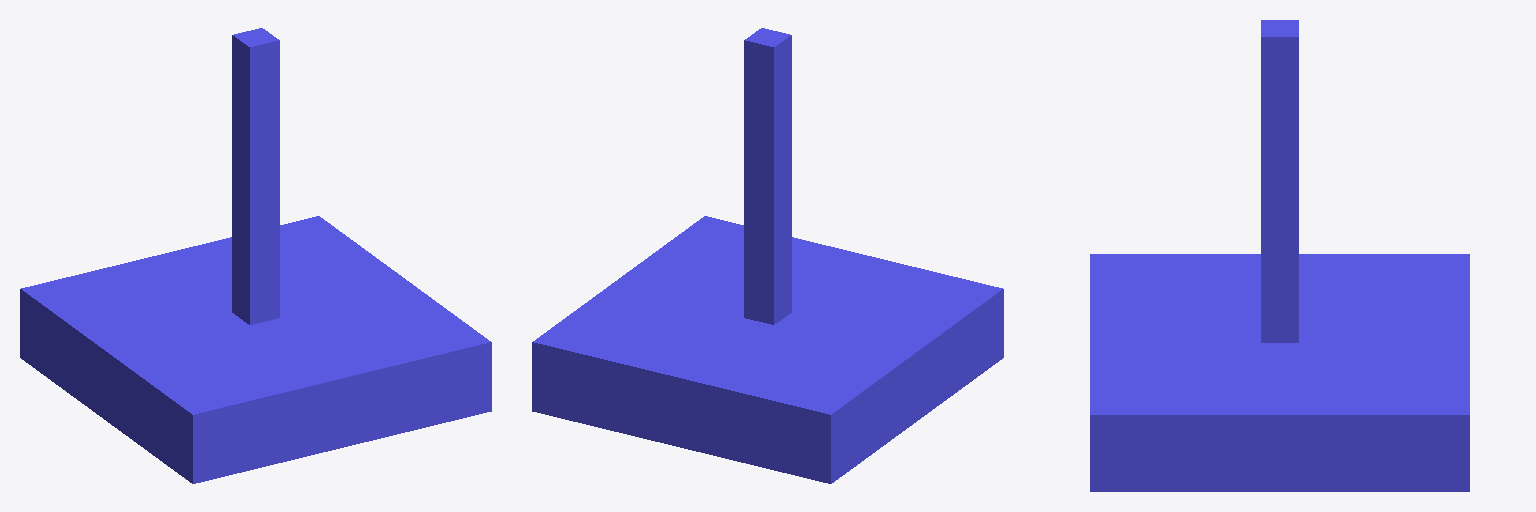
URDF robot description (blocks):
<robot name="blocks">

  <link name="stand1">
    <inertial>
      <origin xyz="0 0 0.25" />
      <mass value="0.1" />
      <inertia  ixx="0.00003375" ixy="0.0"  ixz="0.0"  iyy="0.00003375"  iyz="0.0"  izz="0.00003375" />
    </inertial>

    <visual>
      <origin rpy="0 0 0" xyz="0 0 0.25"/>
      <geometry>
        <box size="0.045 0.045 0.50" />
      </geometry>
      <material name="red">
        <color rgba="0.4 0.4 1.0 1.0"/>
      </material>
    </visual>

    <collision>
      <origin xyz="0 0 0.25"/>
      <geometry>
        <box size="0.045 0.045 0.50" />
      </geometry>
    </collision>

  </link>


  <link name="block">

      <inertial>
        <origin xyz="0 0 0.05" />
        <mass value="1" />
        <inertia ixx="0.10" ixy="0.0" ixz="0.0" iyy="0.10" iyz="0.0" izz="0.10"/>
      </inertial>

      <visual>
        <origin xyz="0 0 0.05"/>
        <geometry>
          <box size="0.45 0.45 0.10" />
        </geometry>
        <material name="red">
          <color rgba="0.4 0.4 1.0 1.0"/>
        </material>
      </visual>

      <collision>
        <origin xyz="0 0 0.05"/>
        <geometry>
          <box size="0.45 0.45 0.10" />
        </geometry>
      </collision>

  </link>


  <joint name="cart_to_pole" type="revolute">
    <axis xyz="0 1 0"/>
    <origin xyz="0.0 0.0 0"/>
    <parent link="block"/>
    <child link="stand1"/>
    <limit upper="0.01" lower="-0.1757" velocity="2.0"/>
  </joint>


</robot>

--- Facts derived from the render (not from the file) ---
Views: 3 orthographic renders of the robot side by side, from view 1: azimuth 30°, elevation 25°; view 2: azimuth 150°, elevation 25°; view 3: azimuth 270°, elevation 25°.
Robot: blocks — 2 links, 1 joints (1 revolute); root link block; default pose: every joint at zero.
Visible links, largest first — view 1: block, stand1; view 2: block, stand1; view 3: block, stand1.
Boxes of the visible links, bbox=[...] form: block: bbox=[20, 216, 491, 483]; stand1: bbox=[232, 28, 279, 324]; block: bbox=[532, 216, 1003, 483]; stand1: bbox=[744, 28, 791, 324]; block: bbox=[1090, 254, 1469, 491]; stand1: bbox=[1261, 20, 1298, 342].
Size in the robot's own frame: 0.45 by 0.45 by 0.5 metres.
Geometry: primitives only (box / cylinder / sphere), no mesh files.